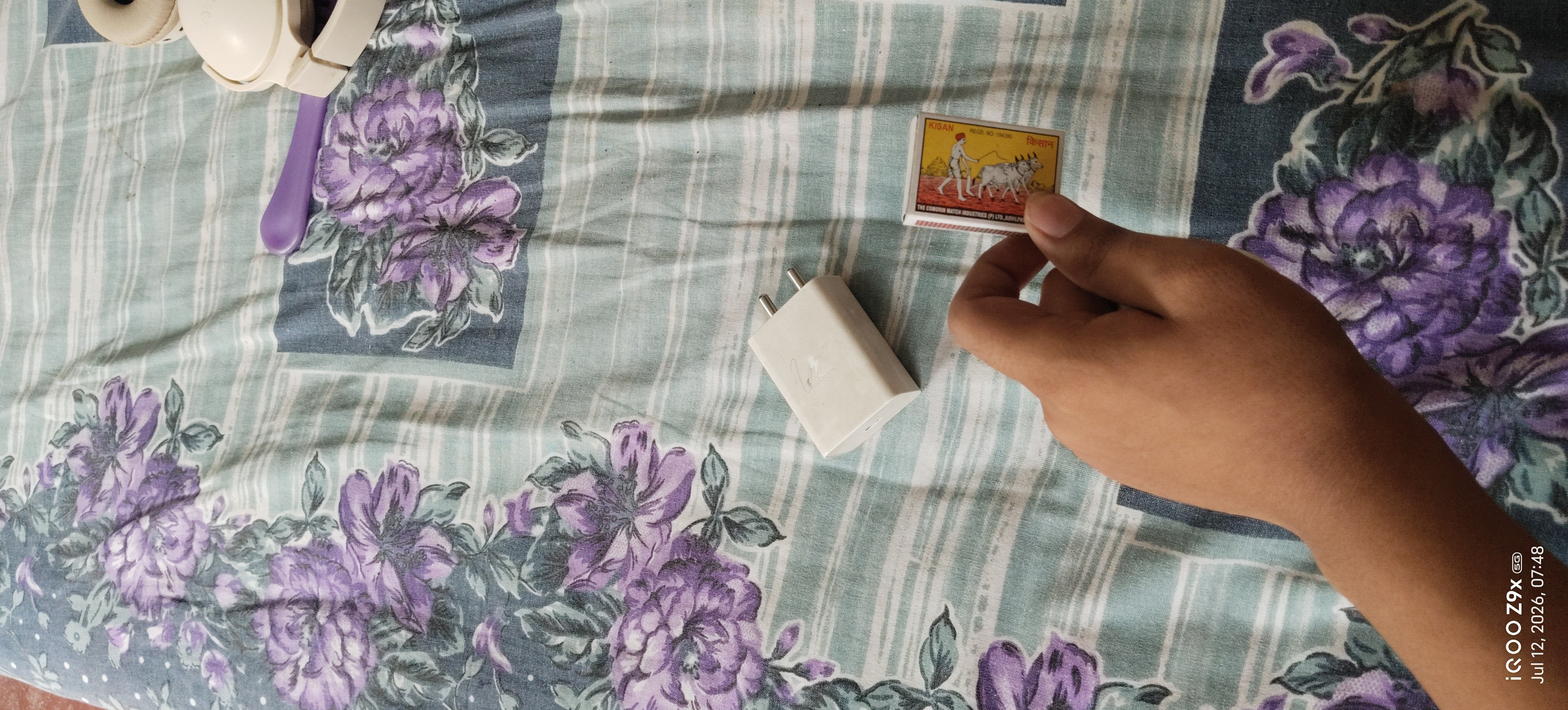charger: (738, 241, 925, 474)
matchbox: (889, 105, 1088, 239)
